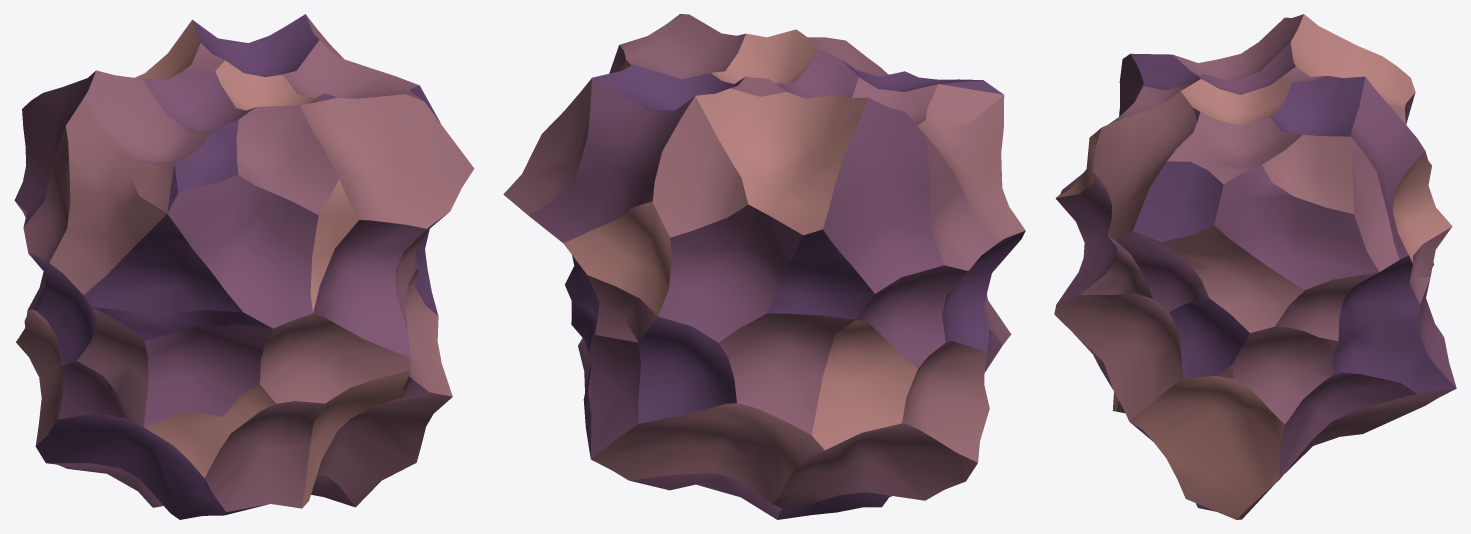
Rendered from rock5.fbx.
3 renders of one model, left to right at view 1: azimuth 30°, elevation 25°; view 2: azimuth 150°, elevation 25°; view 3: azimuth 270°, elevation 25°, orthographic. The views are drawn at different scales.
Parts seen in each view (by area): view 1: Cube.005; view 2: Cube.005; view 3: Cube.005.
Part boxes in pixels (x1=…): Cube.005: x1=14, y1=14, x2=474, y2=519; Cube.005: x1=503, y1=14, x2=1025, y2=519; Cube.005: x1=1054, y1=14, x2=1456, y2=519.
Bounding box in the file's own units: 550 × 595 × 534.
